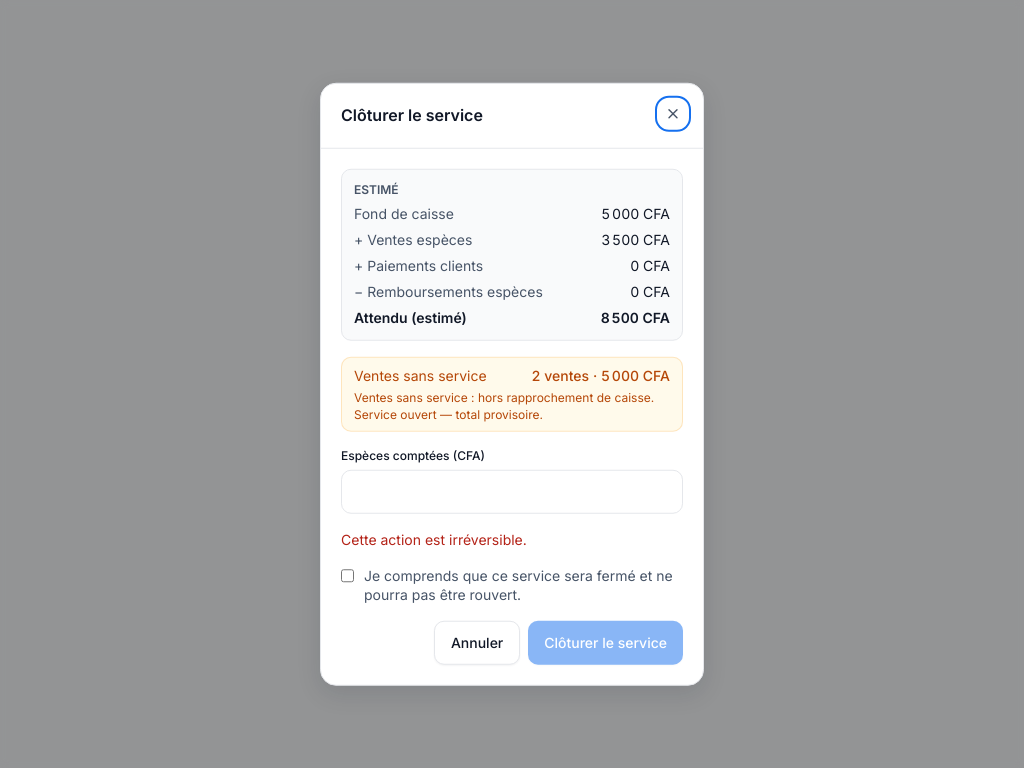
Test case: CloseShiftModal › shows unshifted sales separately from expected cash on confirm and result
Check: the text "Ventes sans service" is shown, box [354, 366, 487, 386]
Step 1. Type "8500" into the field labelled "Espèces comptées (CFA)" → (512, 492), box [341, 470, 683, 514]
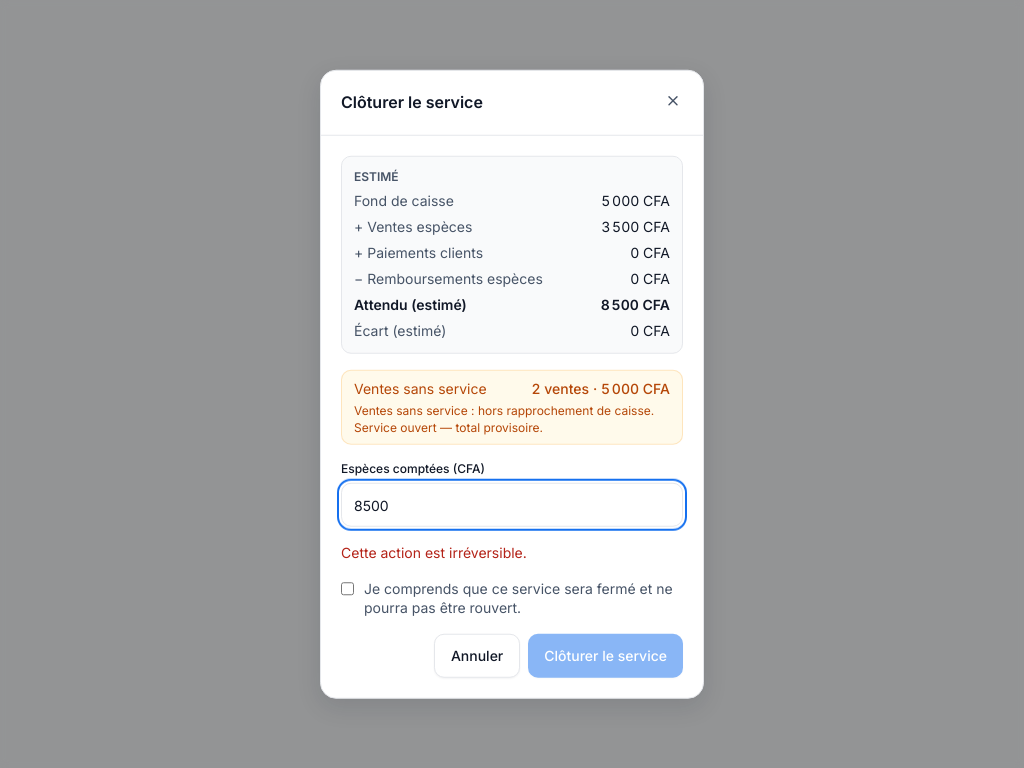
Step 2. Click the checkbox → (348, 589), box [341, 581, 354, 597]
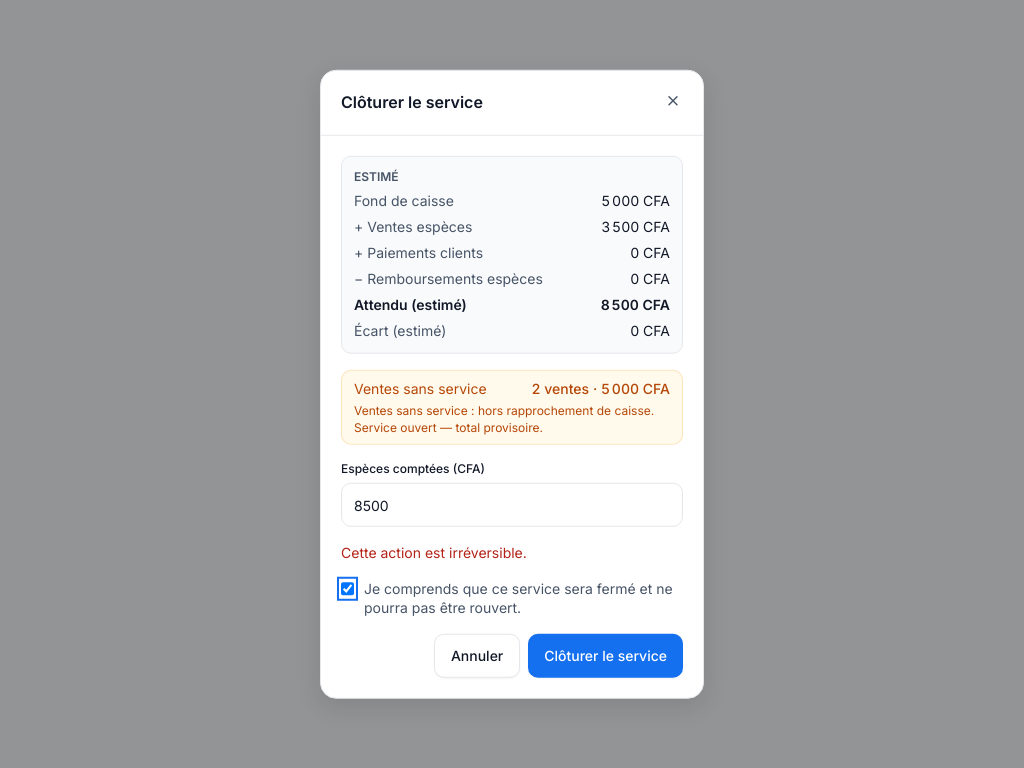
Step 3. Click the button "Clôturer le service" → (606, 655), box [528, 633, 683, 677]
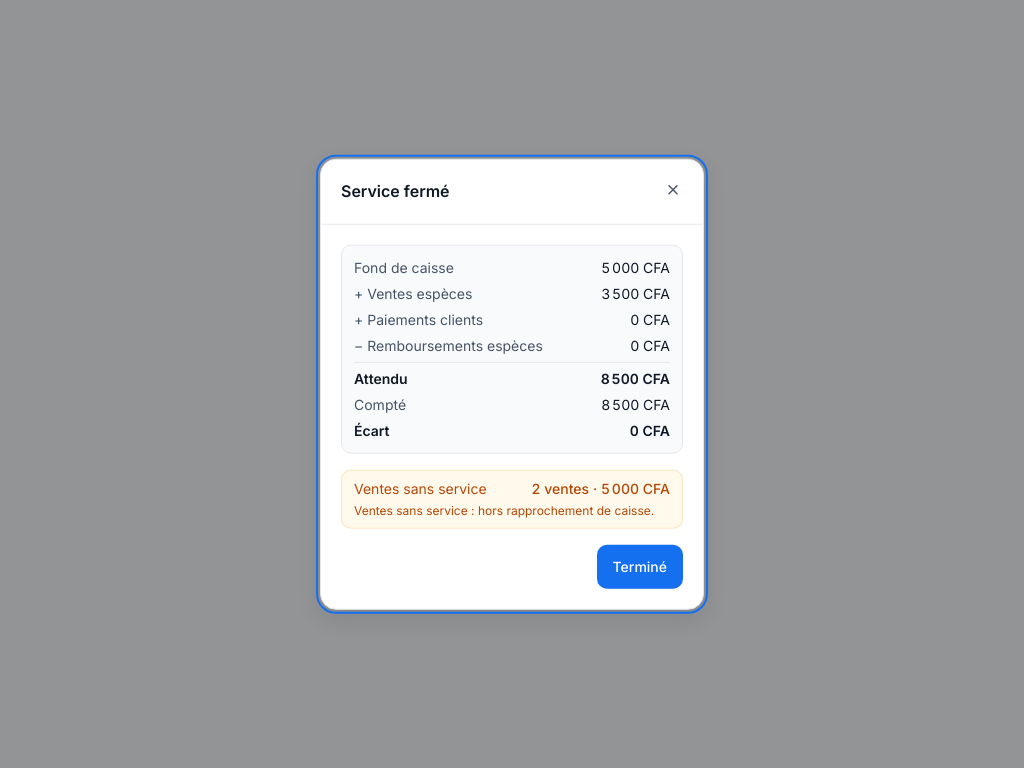
Check: the text "Attendu" is shown, box [354, 369, 408, 389]
Check: the heading "Service fermé" is shown, box [341, 180, 450, 202]
